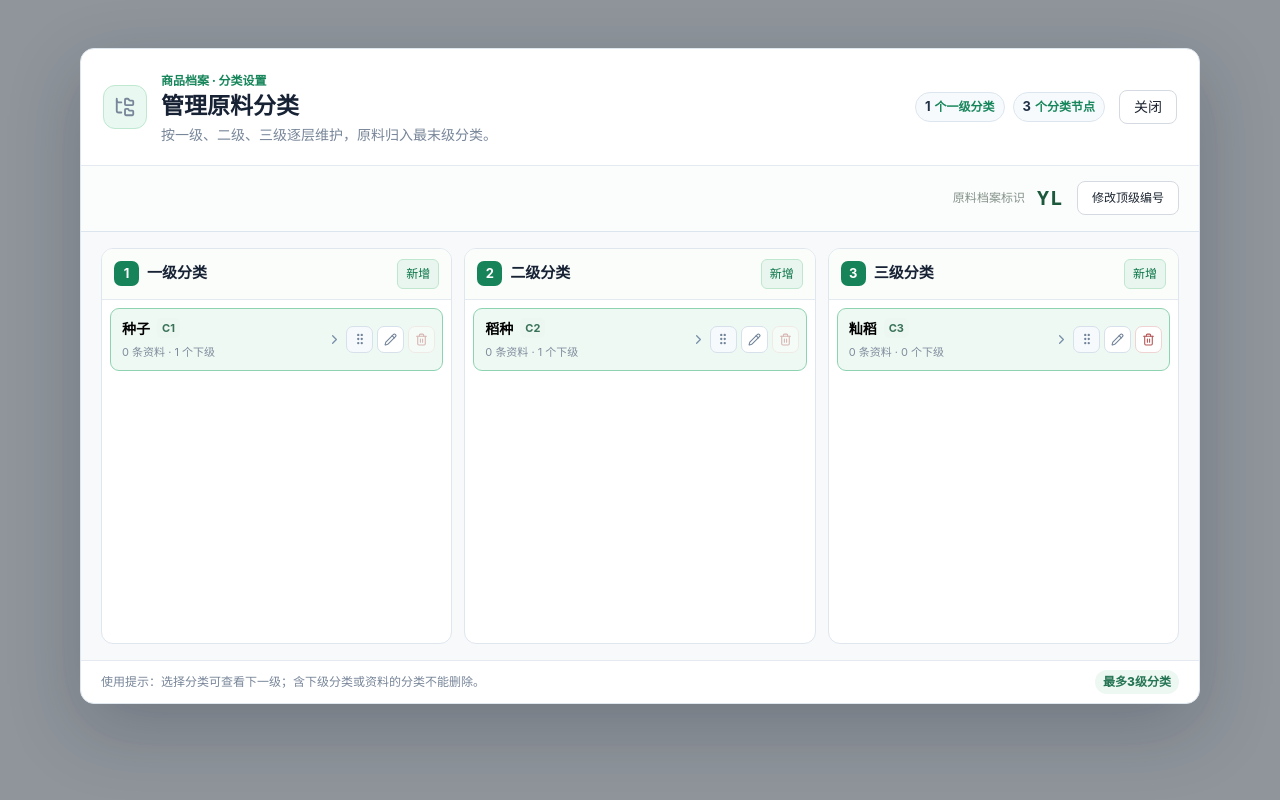
Test: 24号分类管理：逐级维护与保存失败保护 › 改名失败保留用户输入及编辑窗口，可纠正后重试；含子类节点不能删除
Expected: the button named "删除种子" is disabled, [408,326,435,353]
Click the button named "编辑稻种" at (754, 339), box [741,326,768,353]
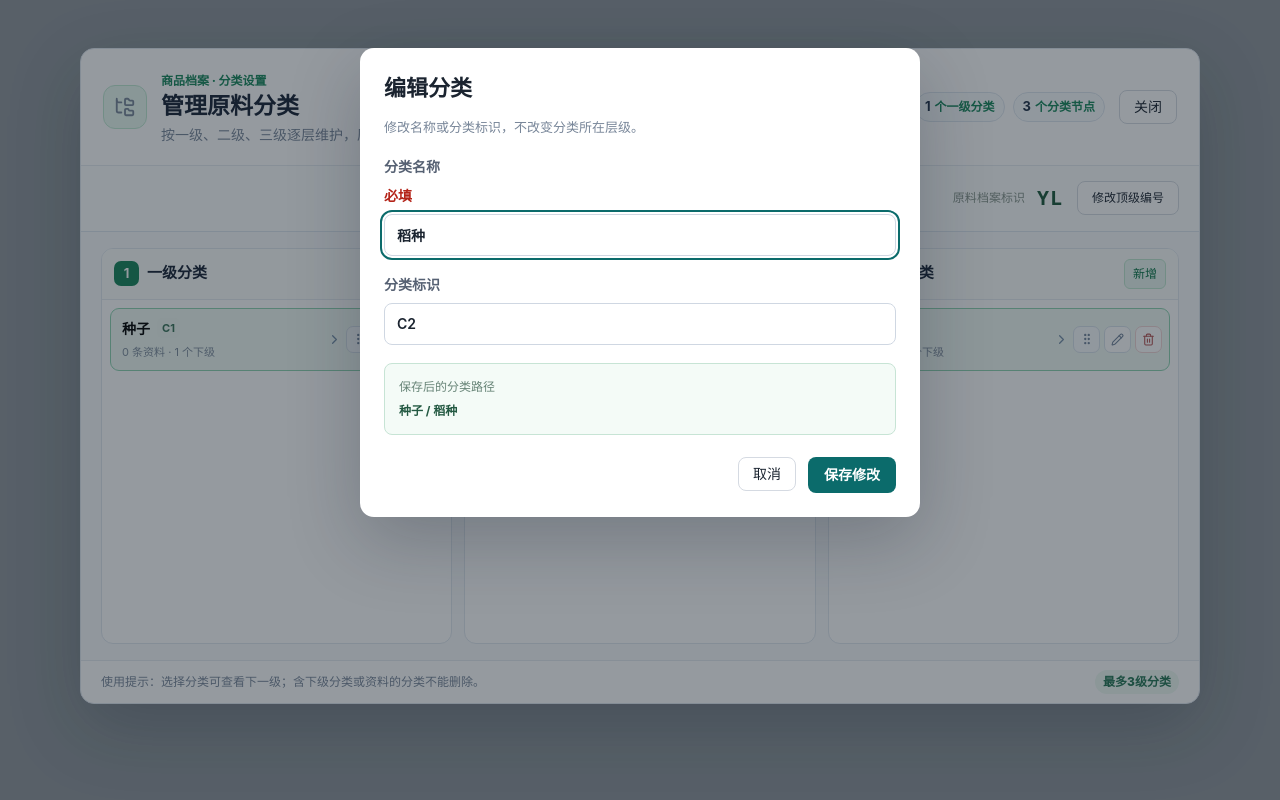
Replace the text in the field labelled "分类名称 必填" with "稻谷" at (640, 234), box [384,214,896,256]
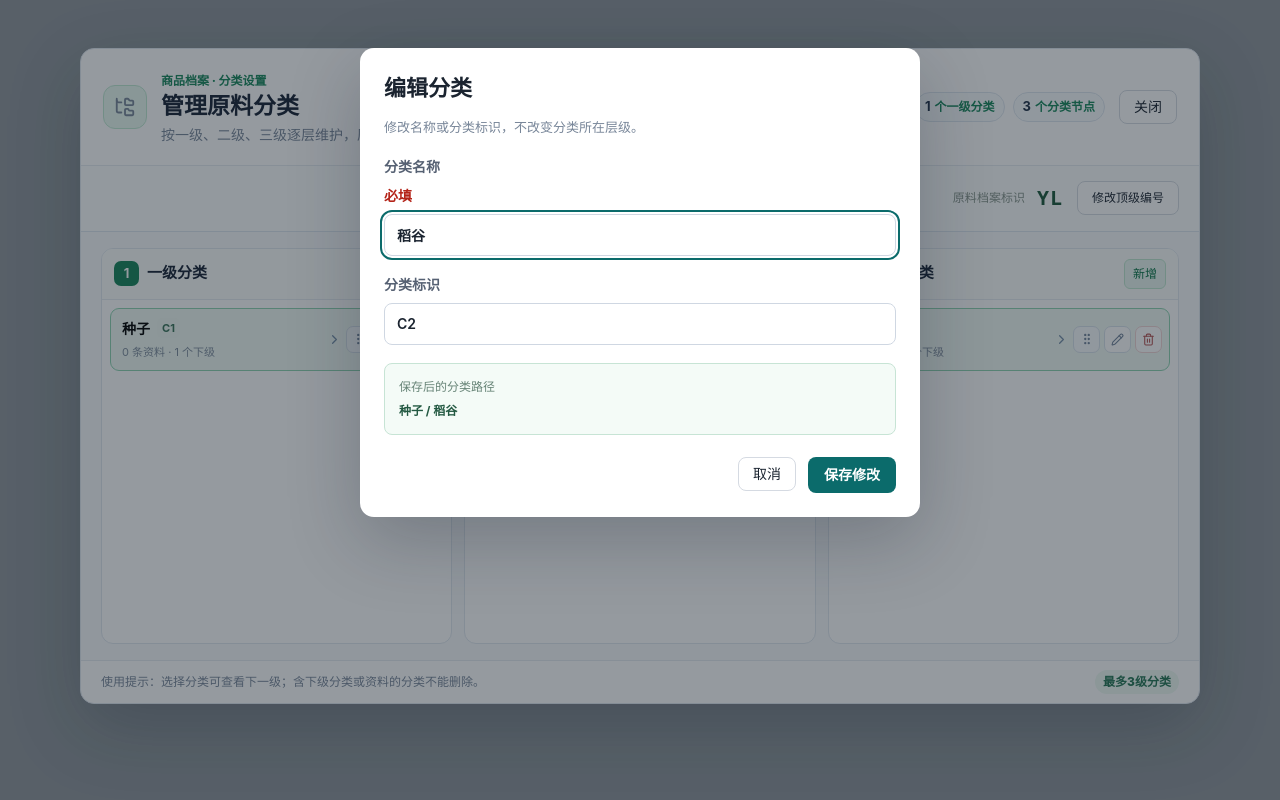
Click the button "保存修改" at (852, 474), box [808,456,896,492]
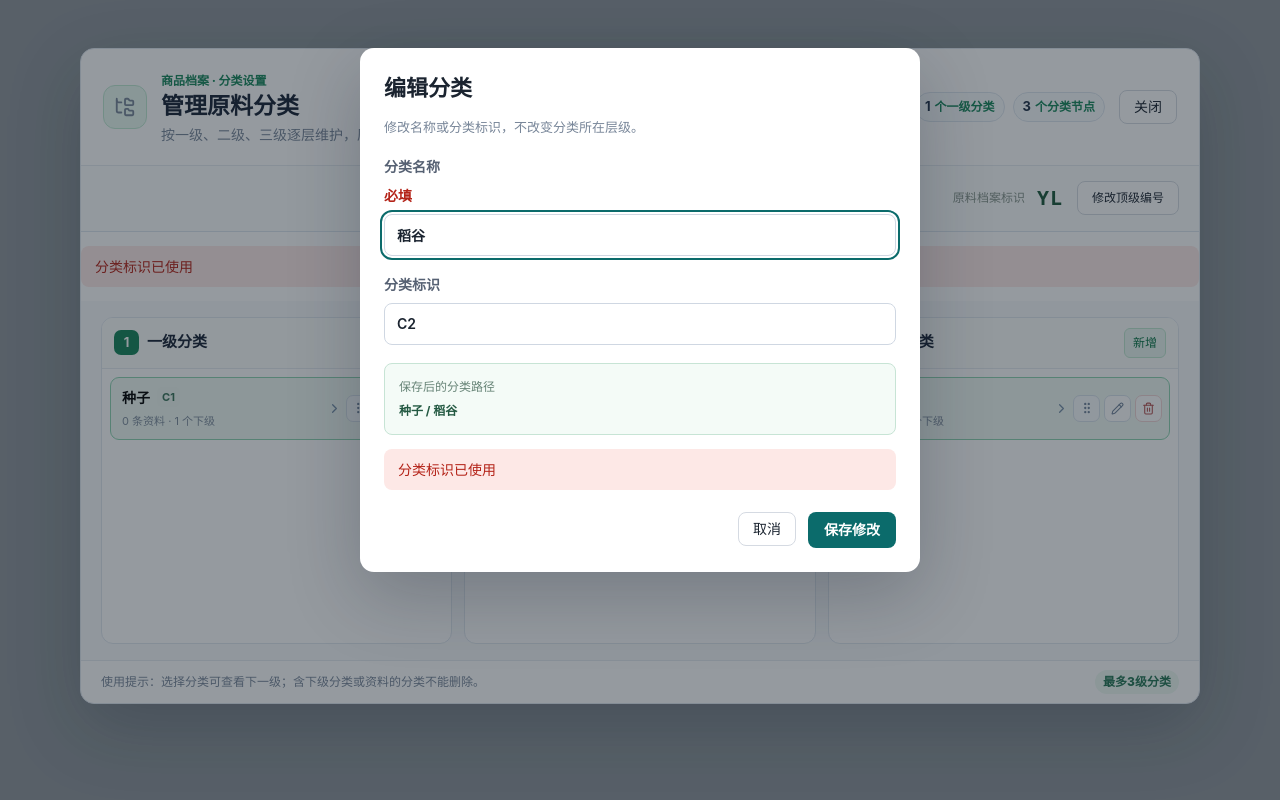
Click the button "保存修改" at (852, 530), box [808,512,896,548]
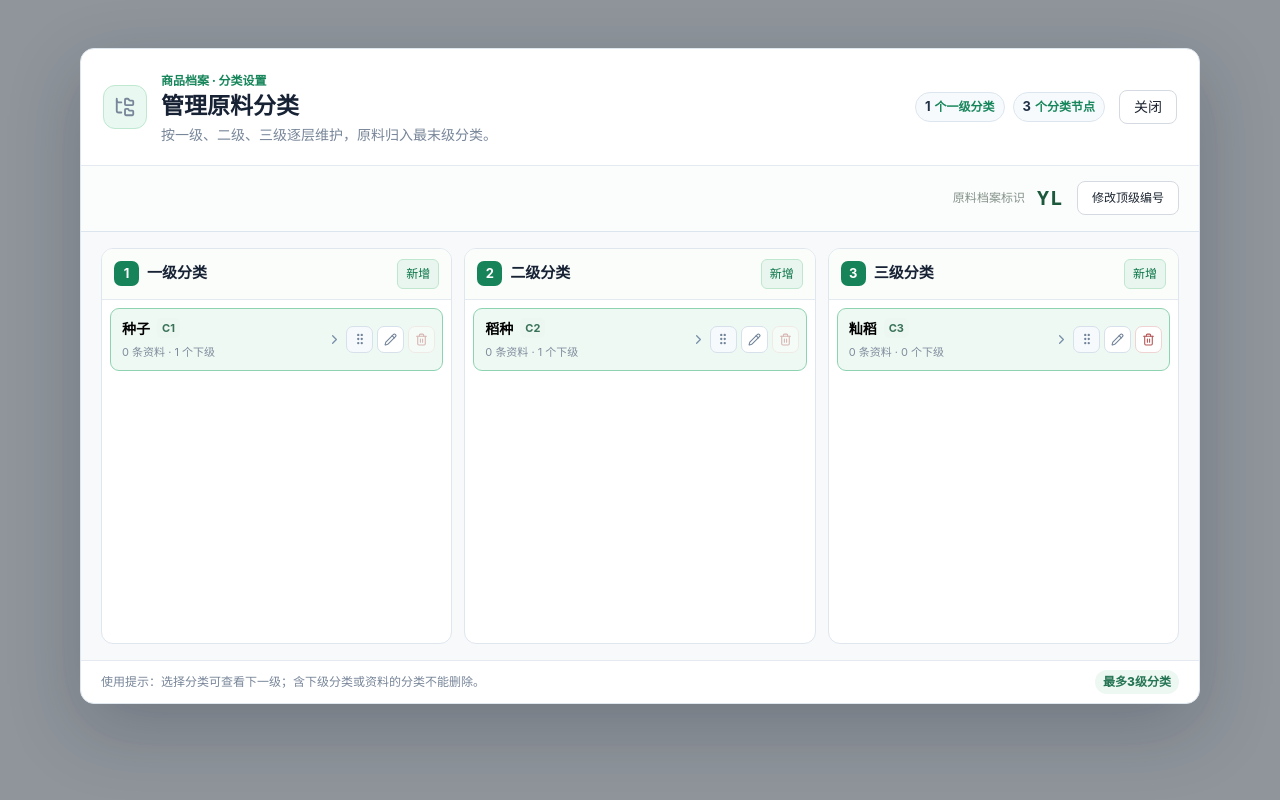
Result: the heading "编辑分类" is gone
